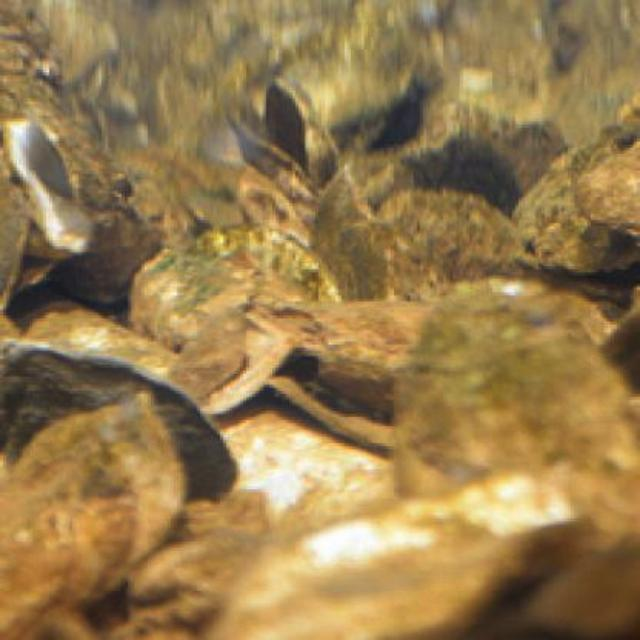Oyster-Closed: (396, 288, 640, 630), (208, 485, 587, 640), (0, 407, 186, 640), (0, 339, 246, 511), (128, 233, 332, 346), (518, 92, 640, 271), (265, 291, 441, 407), (379, 186, 520, 293), (578, 147, 640, 223)
Oyster-Open: (0, 116, 95, 256), (226, 82, 329, 191)
